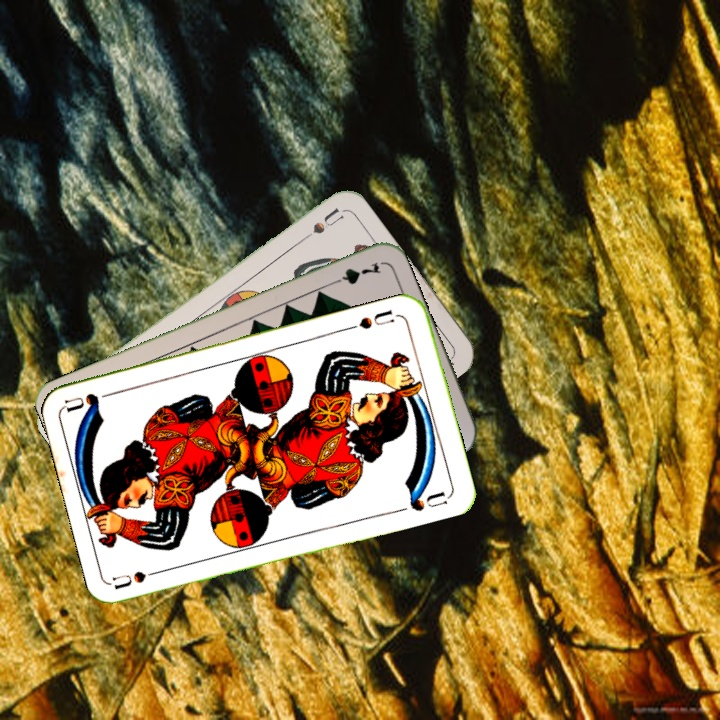G7: (325, 258, 383, 288)
SU: (292, 204, 346, 248), (110, 564, 170, 591), (344, 306, 403, 333)
